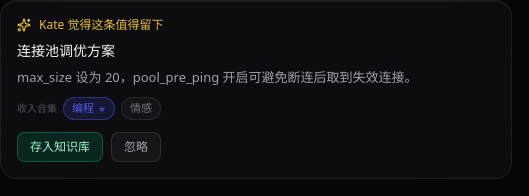
Scenario: SuggestCard 确认流 › 点击「存入知识库」后 POST /api/entries 并转为已保存态
Expected: the text "连接池调优方案" is shown, x1=17 y1=41 x2=115 y2=60
Click the button "存入知识库": (60,146) x1=17 y1=132 x2=103 y2=162
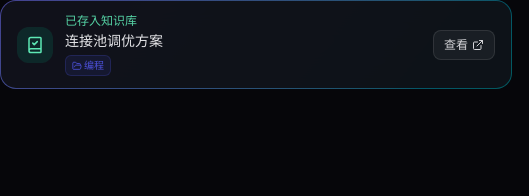
Result: the text "已存入知识库" is shown at x1=65 y1=13 x2=137 y2=29
